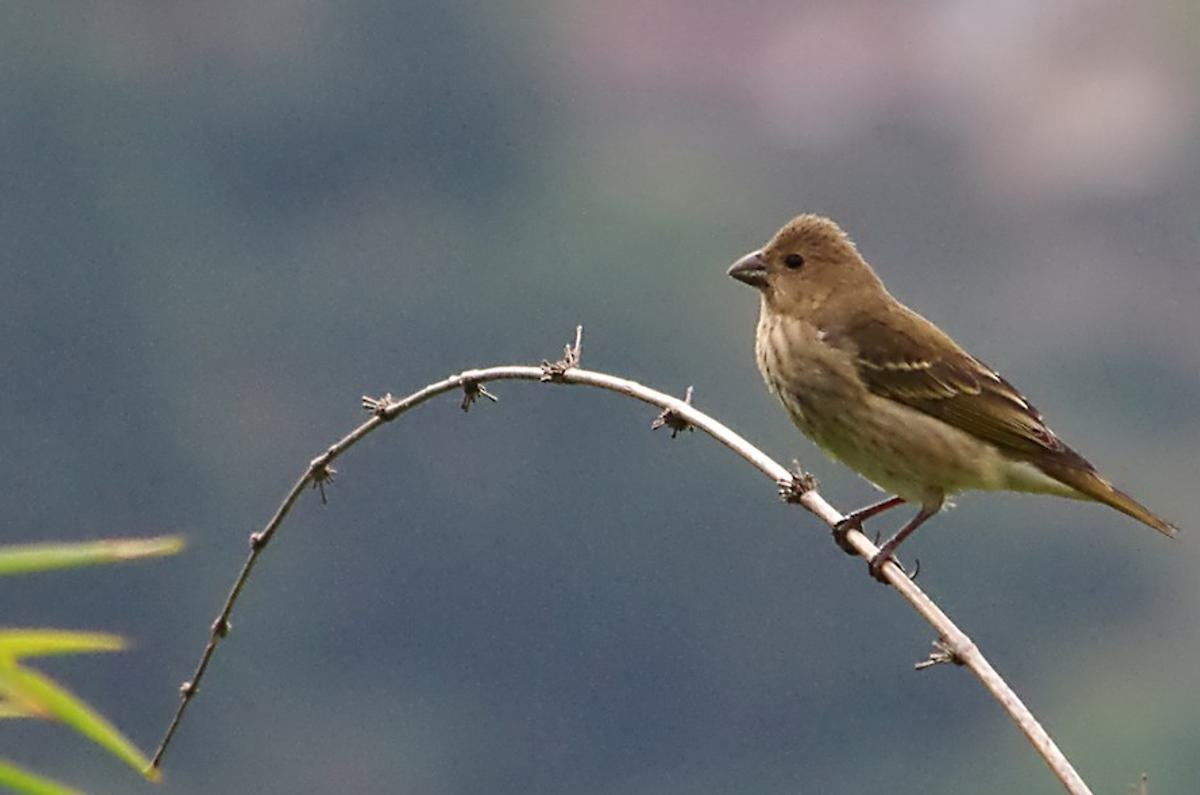rosefinch: (698, 199, 1117, 591)
